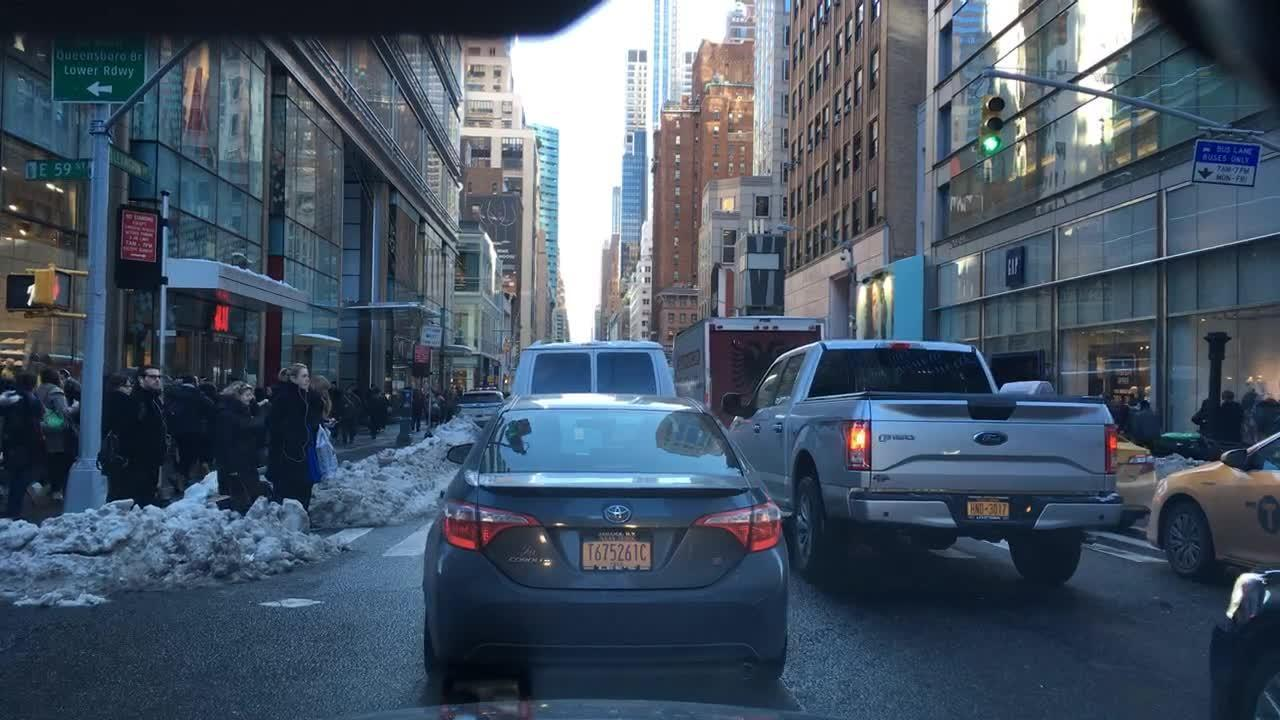Toyota: (601, 502, 639, 533)
ford: (973, 431, 1009, 446)
